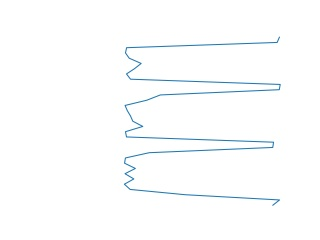majorRiverChannelBar: (122, 37, 284, 206)
